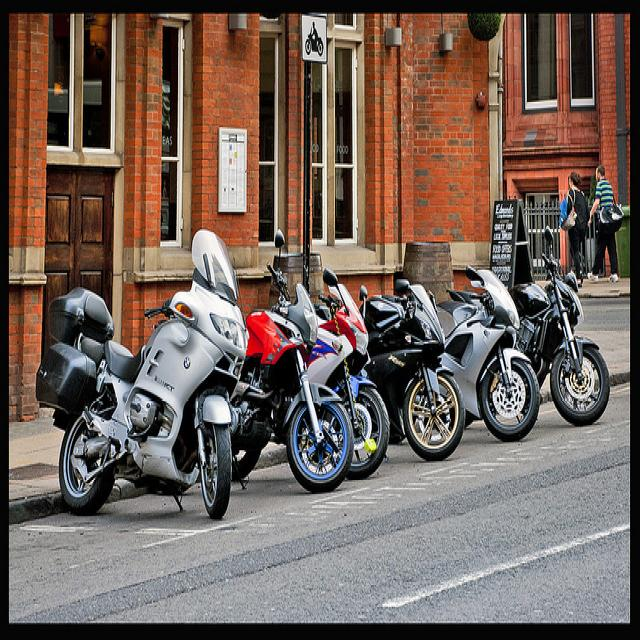motor: (35, 229, 248, 524), (236, 260, 351, 488), (360, 279, 472, 462), (512, 224, 610, 427), (441, 266, 539, 441), (319, 274, 390, 476)
